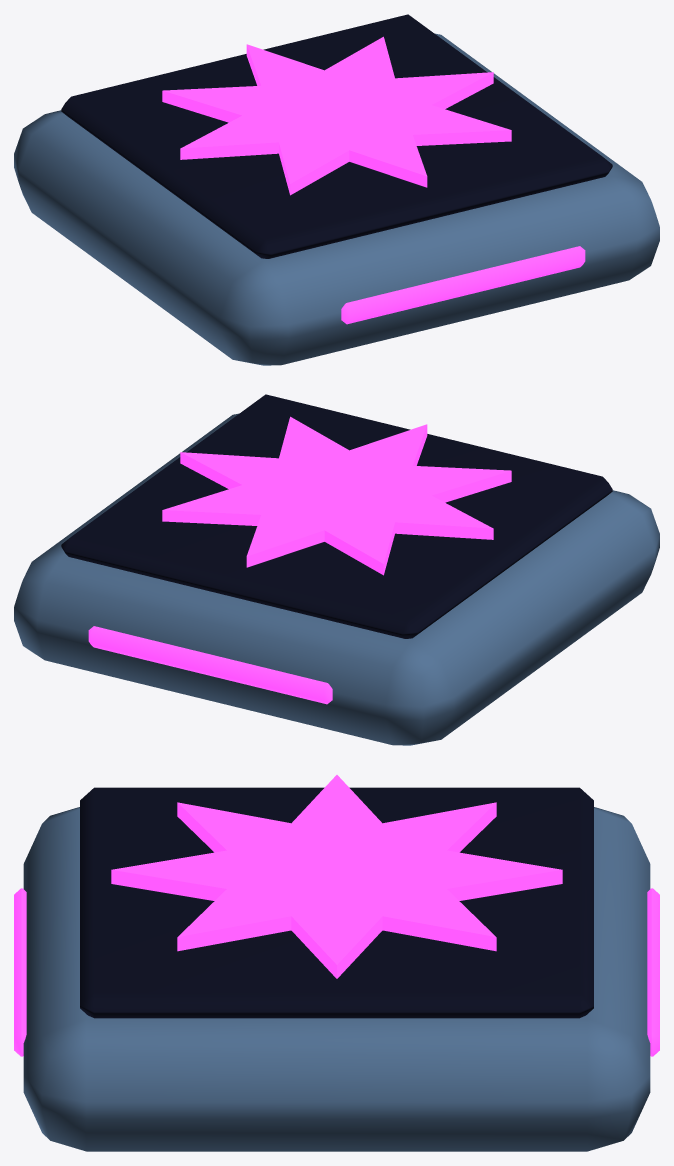
Rendered from NT_Pickup_Damage.fbx.
3 renders of one model, top to bottom at view 1: azimuth 30°, elevation 25°; view 2: azimuth 150°, elevation 25°; view 3: azimuth 270°, elevation 25°, orthographic. The views are drawn at different scales.
Parts seen in each view (by area): view 1: NT_Pickup_Damage__PickupMesh; view 2: NT_Pickup_Damage__PickupMesh; view 3: NT_Pickup_Damage__PickupMesh.
Part boxes in pixels (x1,y1,x2,y2): NT_Pickup_Damage__PickupMesh: (14,14,659,365); NT_Pickup_Damage__PickupMesh: (14,394,659,745); NT_Pickup_Damage__PickupMesh: (14,775,659,1151).
Size of the model in its own units: 1 by 0.306 by 1.03.
